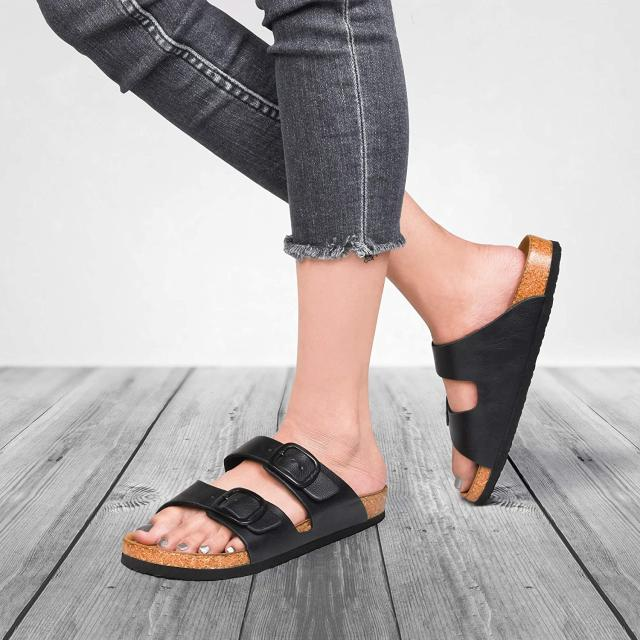Sandals: (111, 394, 392, 586), (419, 230, 562, 502)
